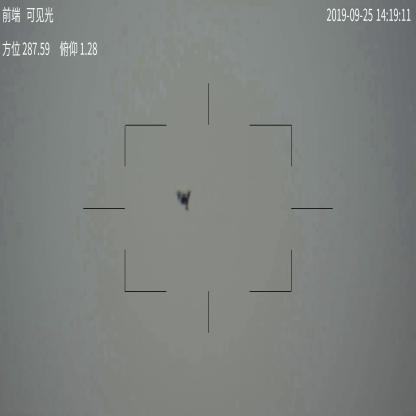uav: (176, 189, 191, 210)
